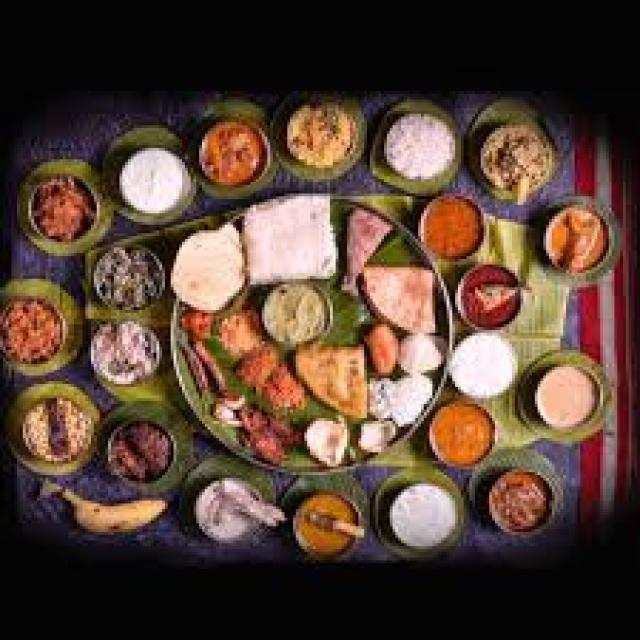curd: (112, 145, 199, 218), (443, 330, 526, 402)
pickle: (0, 283, 76, 370), (478, 466, 564, 532), (26, 176, 103, 246), (99, 418, 180, 484)
raita: (443, 328, 526, 402)
sambar-rasam: (423, 399, 504, 470), (416, 194, 490, 265)
sweet: (10, 379, 99, 474), (414, 197, 491, 263), (539, 206, 609, 275)
